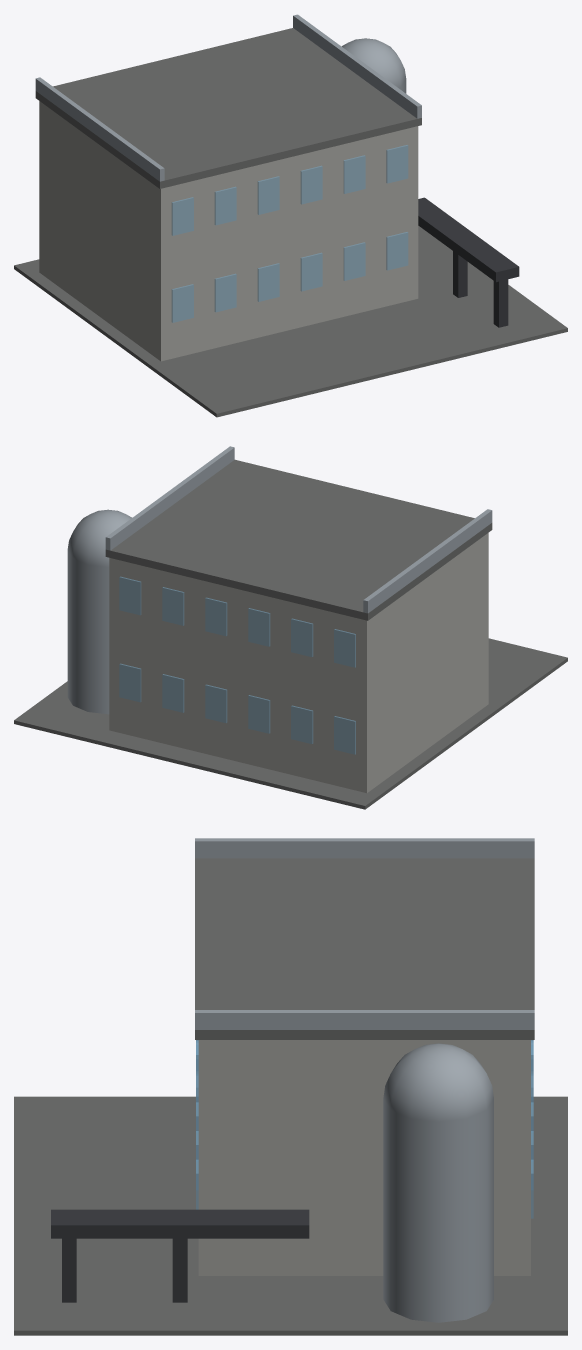
The model's file is bld_special_factory_a07.glb.
The picture shows the model from 3 angles, top to bottom: view 1: azimuth 30°, elevation 25°; view 2: azimuth 150°, elevation 25°; view 3: azimuth 270°, elevation 25°; orthographic projection. The views are drawn at different scales.
Parts seen in each view (by area): view 1: body; view 2: body; view 3: body.
Boxes of the visible parts, box(x1,y1,x2,y2) form: body: box(14, 14, 567, 417); body: box(14, 446, 567, 809); body: box(14, 838, 567, 1335).
Size of what is drawn, in the model's own units: 15 by 8.05 by 15.
